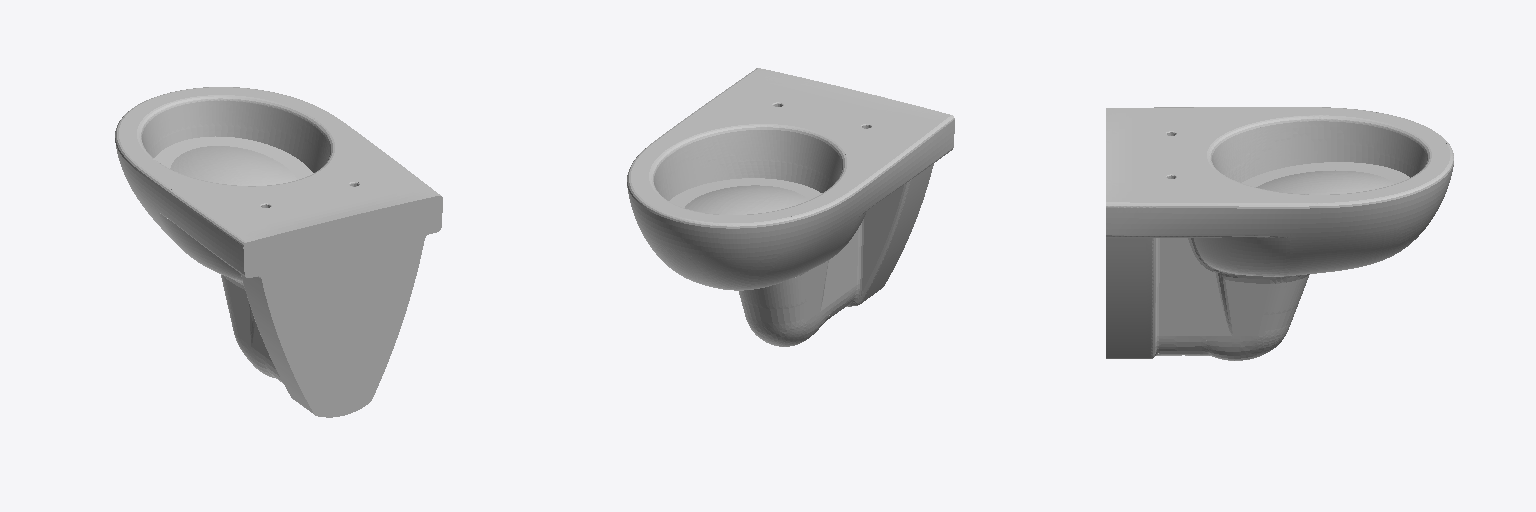
3 views of the same model, side by side, from view 1: azimuth 30°, elevation 25°; view 2: azimuth 150°, elevation 25°; view 3: azimuth 270°, elevation 25° (orthographic).
Visible parts, largest first — view 1: WC-WH_W-D_530_Round_HO; view 2: WC-WH_W-D_530_Round_HO; view 3: WC-WH_W-D_530_Round_HO.
Boxes of the visible parts, x1,y1,x2,y2 form: WC-WH_W-D_530_Round_HO: [115, 87, 442, 417]; WC-WH_W-D_530_Round_HO: [627, 68, 954, 346]; WC-WH_W-D_530_Round_HO: [1106, 107, 1453, 360].
Size of the model in its own units: 35.79 by 34.18 by 53.01.